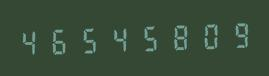eight: (162, 19, 190, 54)
five: (75, 22, 103, 57), (133, 20, 161, 55)
four: (17, 24, 45, 59), (104, 21, 132, 56)
nine: (220, 17, 248, 52)
six: (46, 23, 74, 58)
zero: (191, 18, 219, 53)
